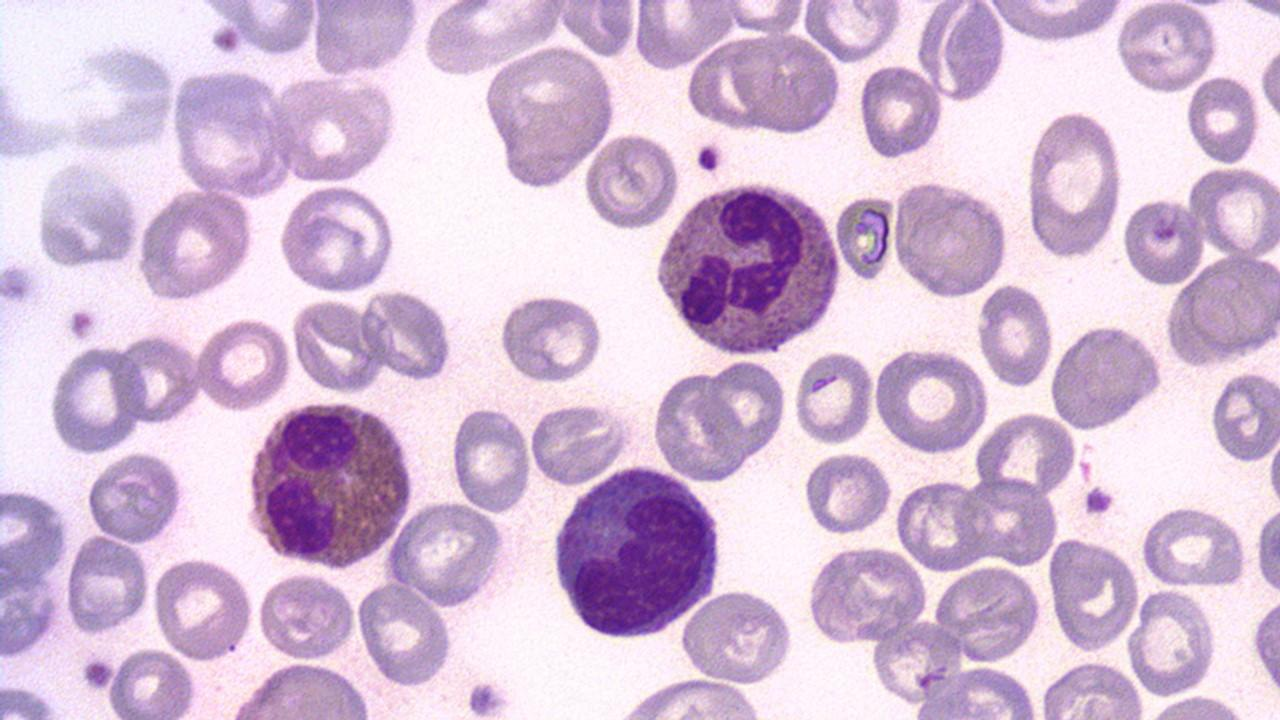Platelets: (0, 257, 39, 307), (1083, 484, 1117, 518), (694, 141, 724, 174)
RBC: (480, 41, 620, 190), (170, 66, 291, 200), (1023, 108, 1127, 258), (648, 358, 768, 484), (888, 176, 1010, 298), (383, 499, 516, 610), (53, 39, 178, 153), (269, 75, 399, 184), (136, 187, 257, 303), (276, 185, 399, 295), (1165, 252, 1280, 367), (873, 345, 990, 456), (805, 544, 929, 646), (32, 160, 143, 272), (726, 34, 843, 135), (678, 586, 796, 684), (932, 564, 1043, 666), (150, 554, 254, 662), (46, 342, 144, 456), (1048, 534, 1140, 652), (353, 582, 457, 686), (1124, 588, 1218, 698), (496, 292, 606, 385), (581, 131, 682, 231), (288, 296, 388, 396), (83, 450, 188, 545), (193, 316, 294, 413), (1113, 2, 1219, 94), (527, 398, 636, 487), (974, 410, 1078, 502), (254, 570, 358, 662), (448, 403, 532, 515), (426, 5, 564, 73), (358, 288, 457, 382), (1138, 503, 1246, 588), (963, 474, 1060, 568), (893, 476, 987, 572), (974, 280, 1056, 390), (704, 356, 788, 462), (857, 61, 945, 162), (114, 330, 202, 429), (63, 534, 148, 636), (226, 660, 378, 717), (308, 0, 421, 76), (792, 348, 876, 448), (802, 448, 894, 538), (1192, 165, 1280, 259), (1121, 193, 1207, 289), (869, 621, 962, 708), (936, 1, 1008, 107), (1, 481, 71, 587), (1185, 72, 1261, 168), (632, 0, 732, 71), (204, 0, 320, 60), (1037, 656, 1147, 718), (1209, 367, 1279, 464), (106, 646, 200, 718), (612, 676, 772, 718), (984, 1, 1129, 46), (833, 191, 898, 287), (802, 2, 900, 63), (557, 0, 639, 58), (1251, 586, 1280, 706), (720, 0, 809, 35), (1254, 502, 1280, 600), (1256, 34, 1280, 129), (1264, 417, 1280, 520)
WBC: (0, 6, 720, 720), (652, 174, 846, 361), (548, 462, 728, 641), (243, 396, 416, 572), (650, 353, 784, 483), (1047, 318, 1167, 432), (806, 541, 930, 648), (1167, 252, 1280, 366), (303, 2, 424, 76)
